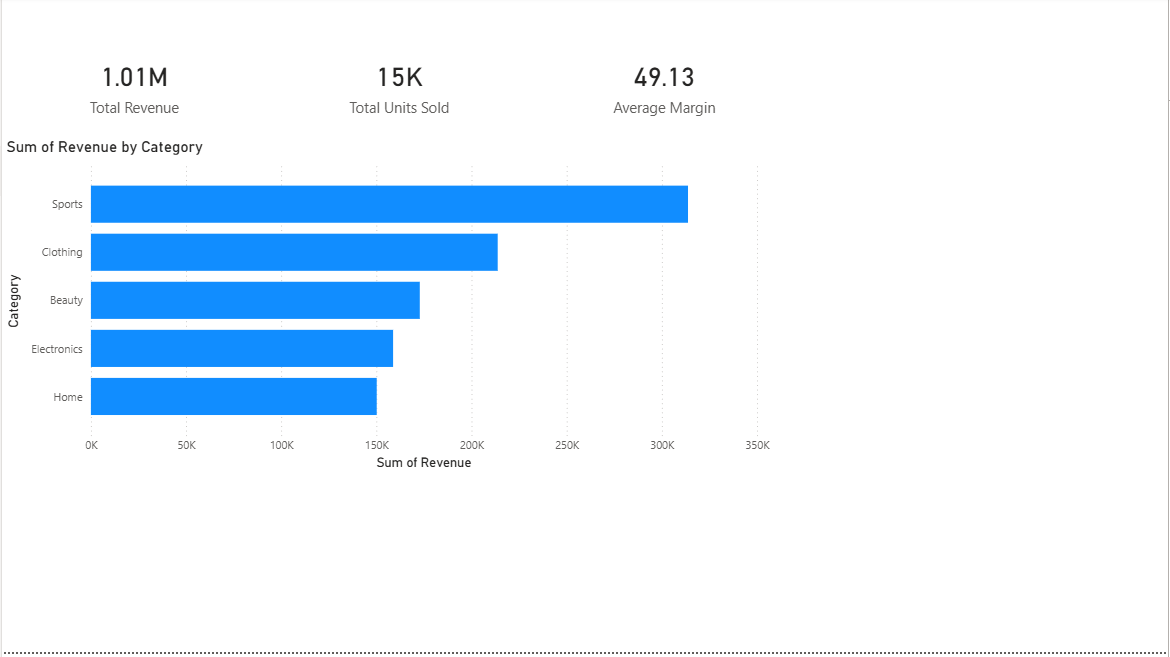

This screenshot's page, from the dashboard's own definition file:
{"tool":"powerbi","page":{"name":"Exective Overview","canvas":[1280,720],"ordinal":0},"visuals":[{"type":"card","fields":{"Values":["final_inventory_analysis.Total Revenue"]},"box":[0,0,290.9,194.9],"z":0},{"type":"card","fields":{"Values":["final_inventory_analysis.Total Units Sold"]},"box":[290.9,0,290.9,194.9],"z":1},{"type":"card","fields":{"Values":["final_inventory_analysis.Average Margin"]},"box":[581.8,0,290.9,194.9],"z":2},{"type":"barChart","fields":{"Category":["final_inventory_analysis.Category"],"Y":["Sum(final_inventory_analysis.Revenue)"]},"box":[0,155.1,848,370.5],"z":3}]}

Visuals, with their boxes in screenshot pixels (x1, y1, x2, y2), scaled from the page's 1280x720 canvas onto the 1170x657 screenshot:
card - final_inventory_analysis.Total Revenue: Rect(0, 0, 266, 178)
card - final_inventory_analysis.Total Units Sold: Rect(266, 0, 532, 178)
card - final_inventory_analysis.Average Margin: Rect(532, 0, 798, 178)
barChart - final_inventory_analysis.Category x Sum(final_inventory_analysis.Revenue): Rect(0, 142, 775, 480)
